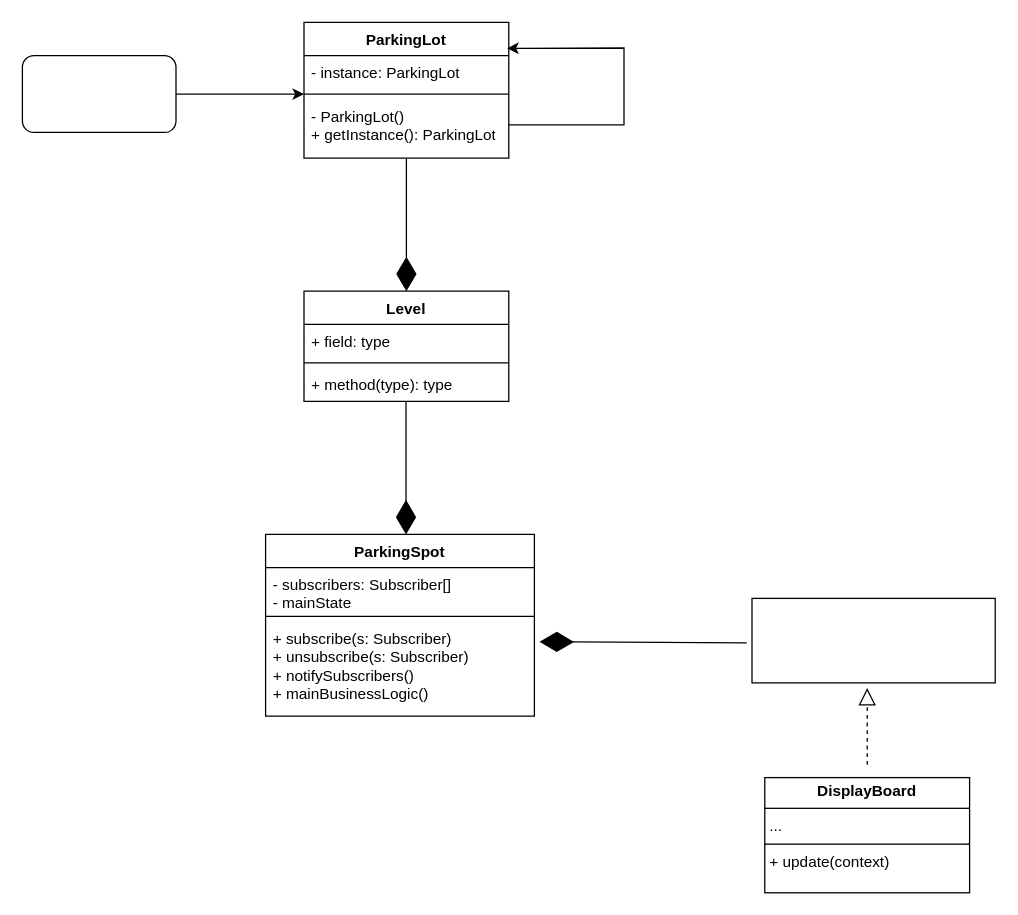
Image size: 1018x915. Some labels were removed from this diagram. The shapes that lost their labels are listed below. From the top down, each one's centre as x and y in pixels, then its label:
At (x=98, y=93): "Client".
At (x=873, y=640): "<<Interface>> Subscriber + update(context)".
